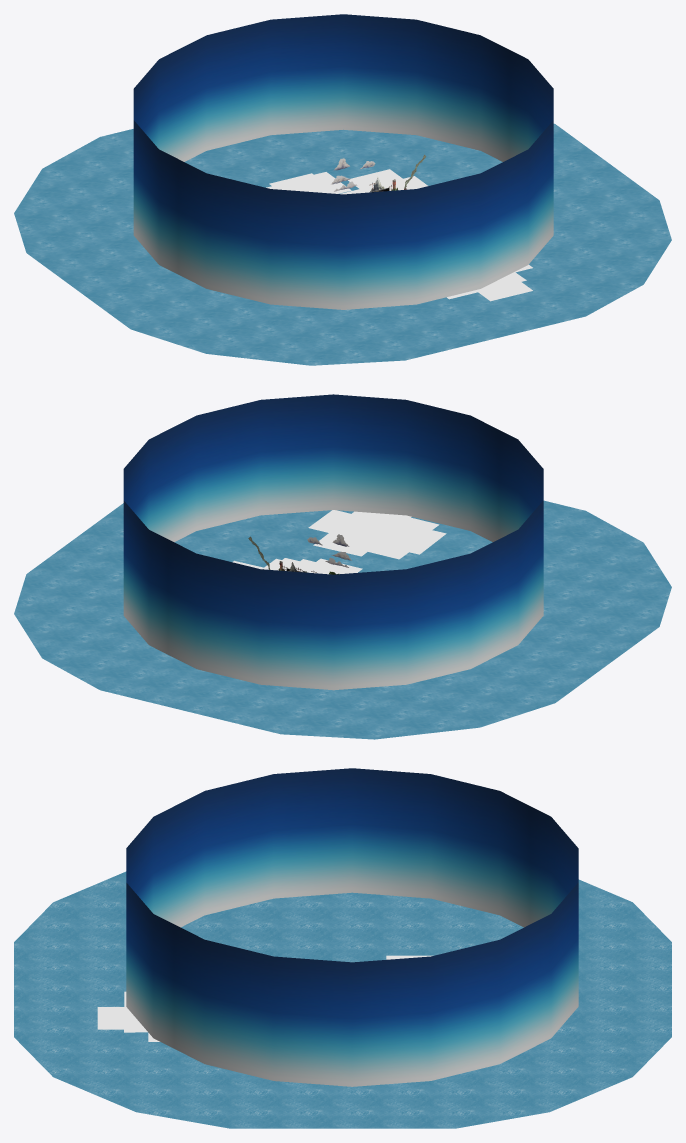
The model's file is Island Landscape.FBX.
3 renders of one model, top to bottom at view 1: azimuth 30°, elevation 25°; view 2: azimuth 150°, elevation 25°; view 3: azimuth 270°, elevation 25°, orthographic. The views are drawn at different scales.
Parts seen in each view (by area): view 1: sky, Water, Sea Waves A; view 2: sky, Water, Sea Waves B, Sea Waves A, Sea Waves C; view 3: sky, Water, Sea Waves A.
Part boxes in pixels (x1,y1,x2,y2): sky: [133, 14, 553, 309]; Water: [14, 123, 671, 365]; Sea Waves A: [269, 169, 532, 301]; sky: [123, 394, 543, 690]; Water: [14, 500, 671, 739]; Sea Waves B: [283, 510, 425, 572]; Sea Waves A: [262, 512, 439, 574]; Sea Waves C: [232, 511, 446, 574]; sky: [126, 768, 578, 1086]; Water: [14, 871, 671, 1128]; Sea Waves A: [97, 955, 433, 1029].
Size of the model in its own units: 7197 by 7197 by 1807.
